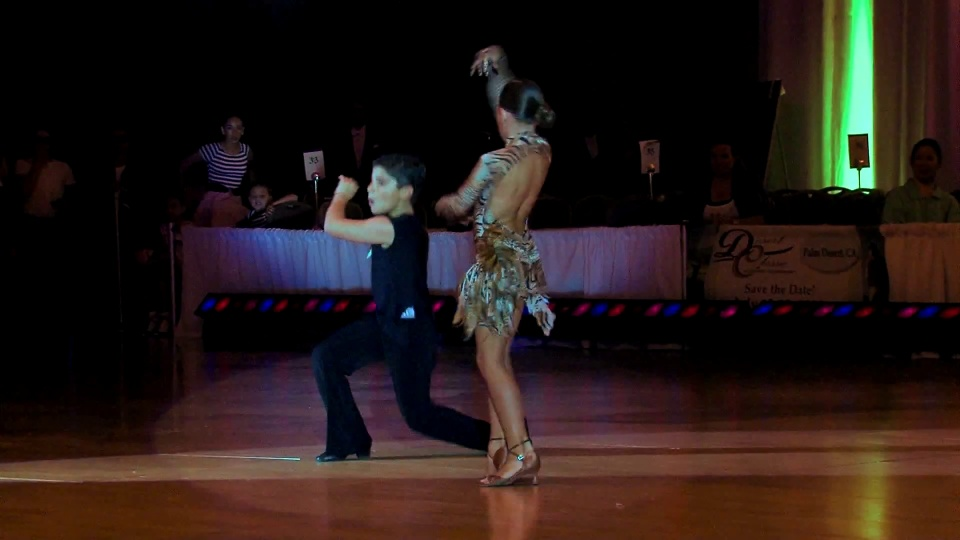person: (431, 45, 561, 507), (304, 141, 484, 474), (174, 113, 263, 230)
